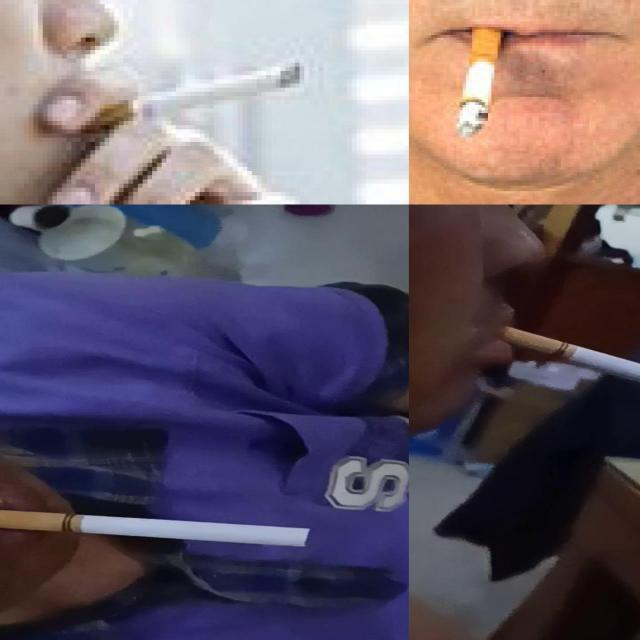rokok: (69, 62, 304, 136), (497, 328, 639, 412), (0, 512, 316, 548), (457, 21, 503, 138)
